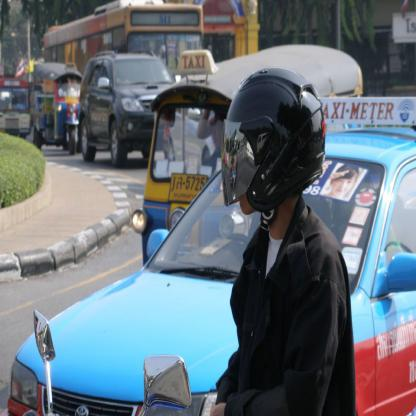Bus: (40, 5, 206, 80)
